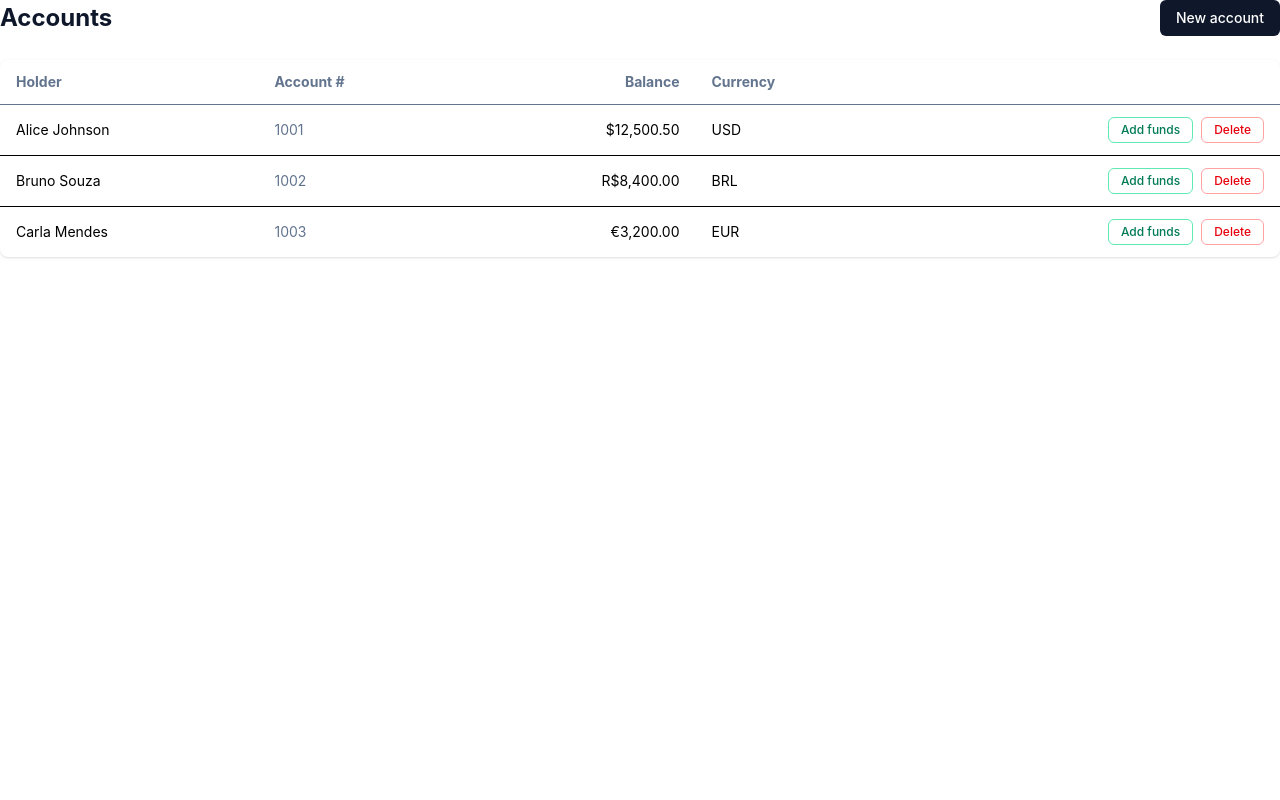
Test case: AccountsPage › creating an account adds a row
Expected: the text "Alice Johnson" is shown, [0,104,258,156]
Click the button "New account". click: coordinates (1220, 18)
box: [1160,0,1279,36]
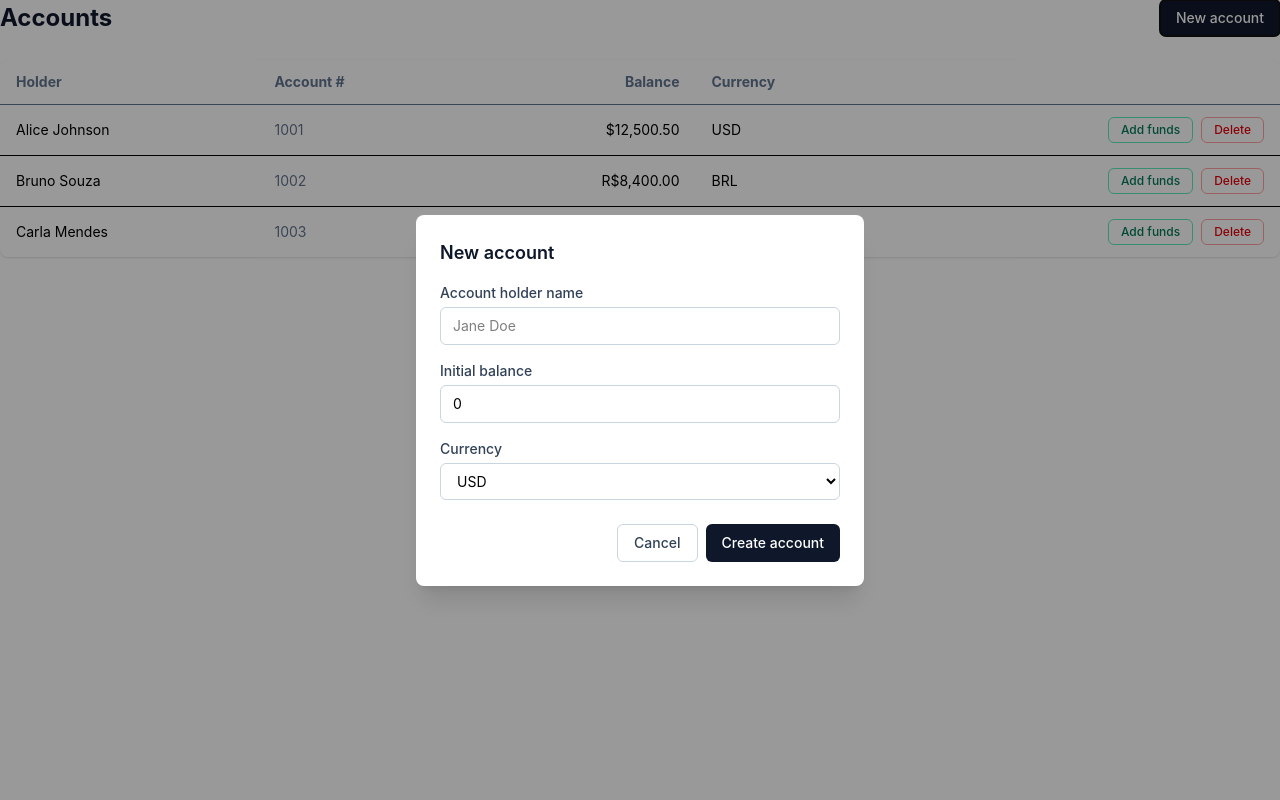
Type "Diana Prince" into the field with placeholder "Jane Doe". click: coordinates (640, 326)
box: [440,306,840,344]
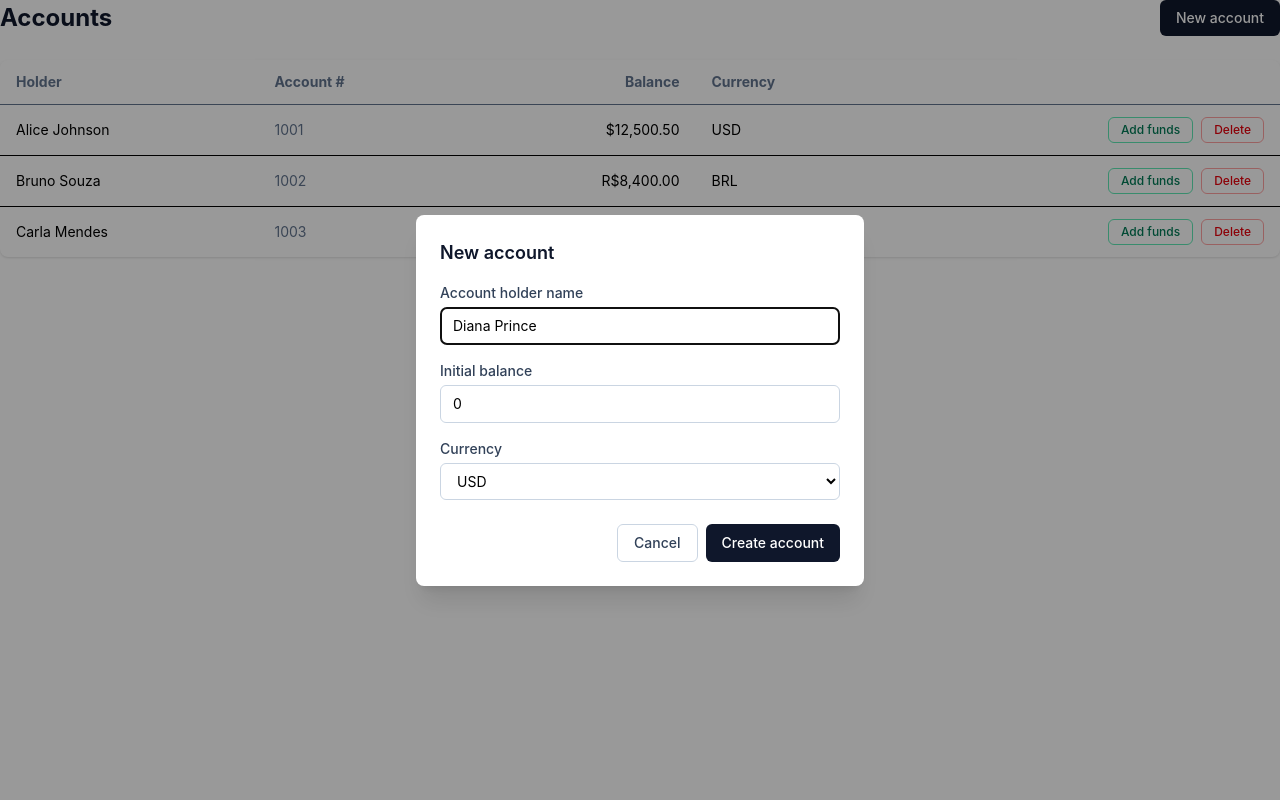
Click the button "Create account". click: coordinates (773, 542)
box: [706,524,840,562]
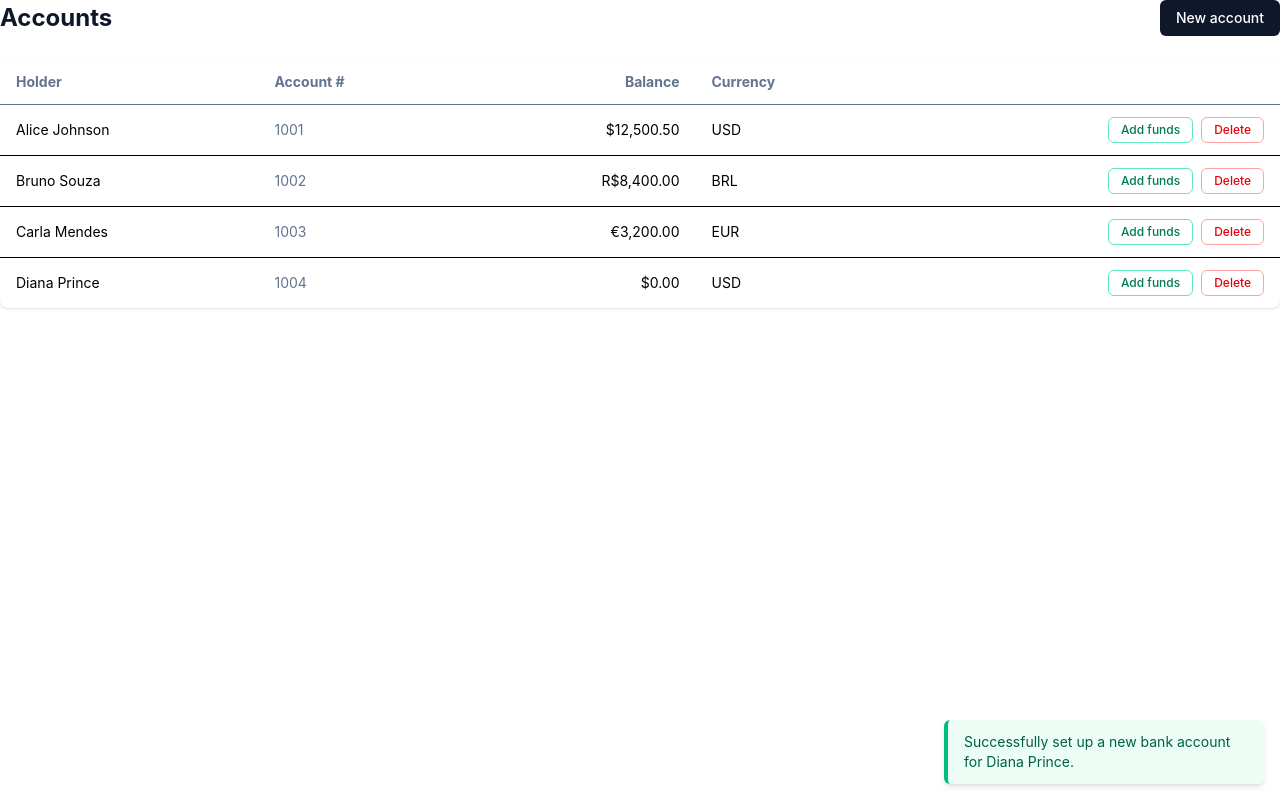
Result: the text "Diana Prince" is shown at [0,258,258,308]
Result: the text "Successfully set up a new bank account for Diana Prince." is shown at [944,720,1264,784]
